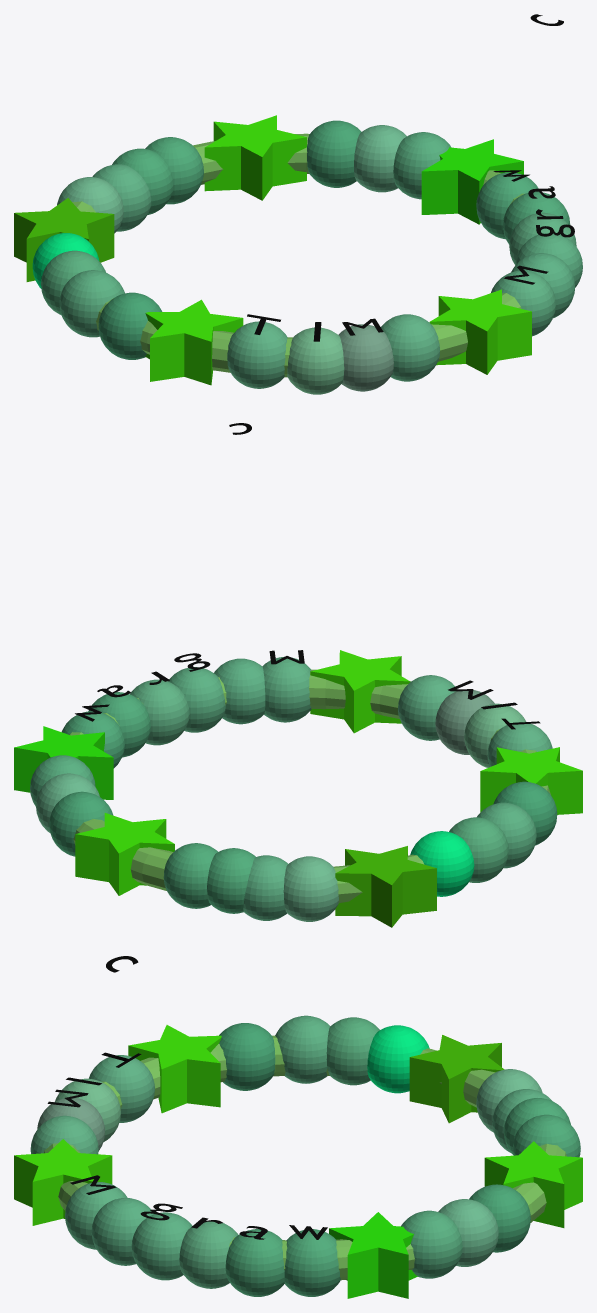
File: TaylorSwift_TimMcgraw.fbx
3 renders of one model, top to bottom at view 1: azimuth 30°, elevation 25°; view 2: azimuth 150°, elevation 25°; view 3: azimuth 270°, elevation 25°, orthographic. The views are drawn at different scales.
Parts seen in each view (by area): view 1: Torus.001; view 2: Torus.001; view 3: Torus.001.
Boxes of the visible parts, <box> form: Torus.001: <box>14,14,582,394</box>; Torus.001: <box>14,423,582,927</box>; Torus.001: <box>14,956,582,1298</box>.
Bounding box in the file's own units: 115 × 68.88 × 117.
